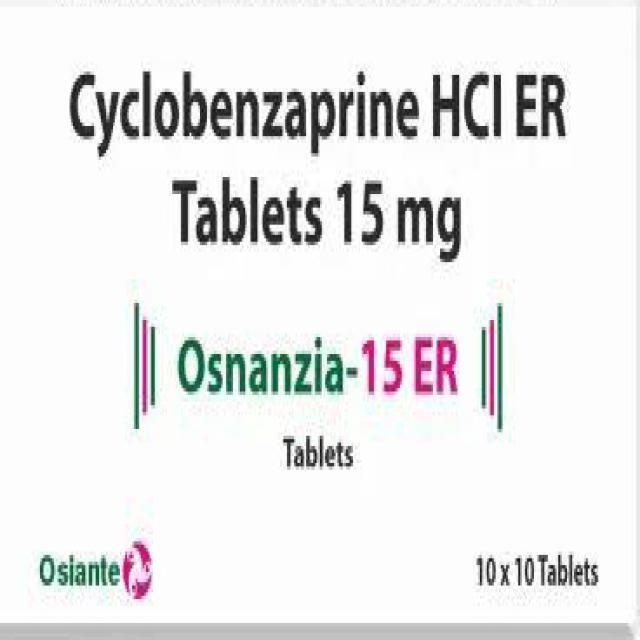drug-name: (174, 329, 462, 398)
